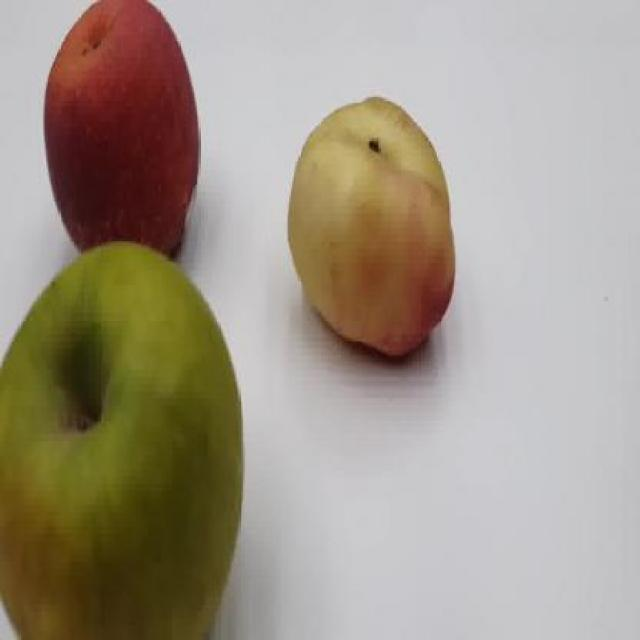Fresh Apple: (9, 268, 241, 640), (31, 9, 210, 246)
Rotten: (287, 98, 467, 368)
